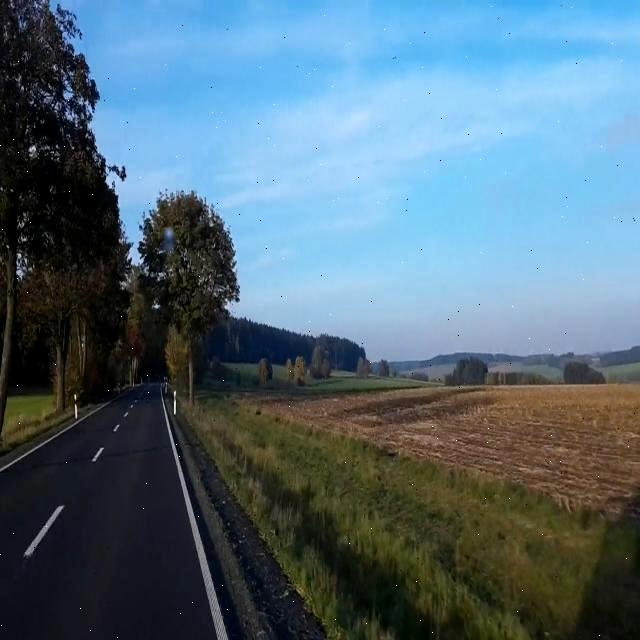lane: (163, 392, 229, 640), (22, 505, 65, 563), (90, 447, 111, 464)
road: (0, 386, 216, 639)
